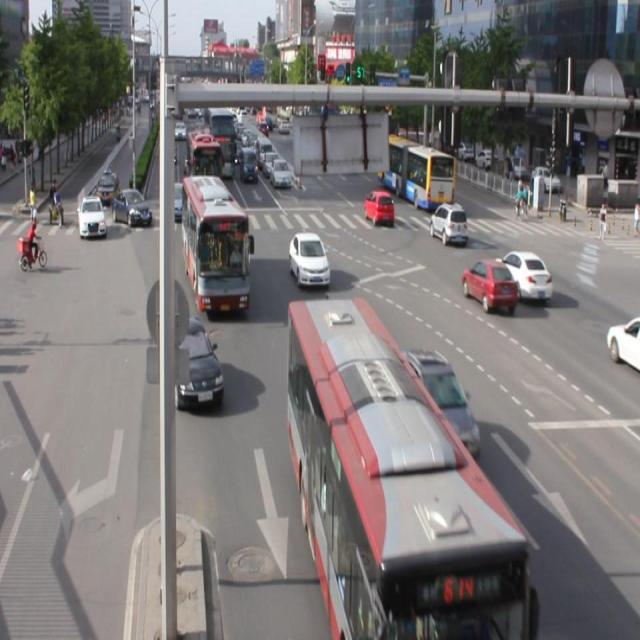car: (398, 346, 479, 459), (170, 313, 223, 406), (462, 256, 517, 312), (494, 248, 551, 300), (289, 230, 330, 286), (604, 314, 640, 371), (428, 200, 467, 244)
van: (287, 298, 525, 640), (183, 176, 250, 311)
